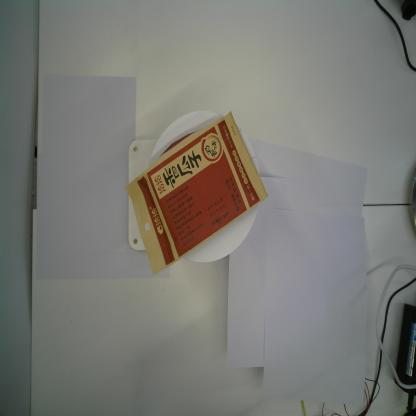Dried Food: (125, 110, 269, 277)
